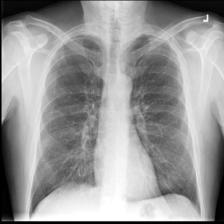normal: (24, 24, 205, 222)
